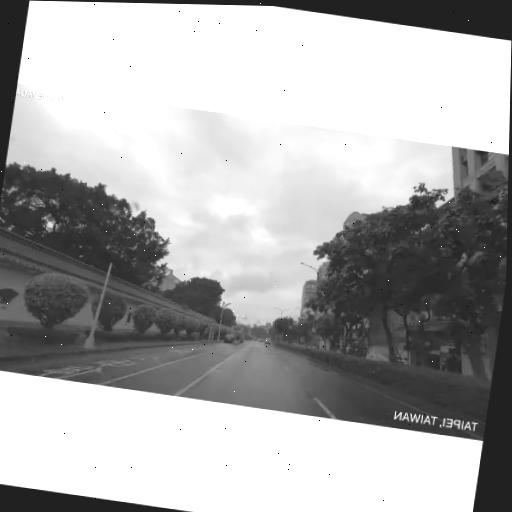Car: (229, 324, 246, 343), (224, 332, 238, 343), (264, 336, 272, 345)
